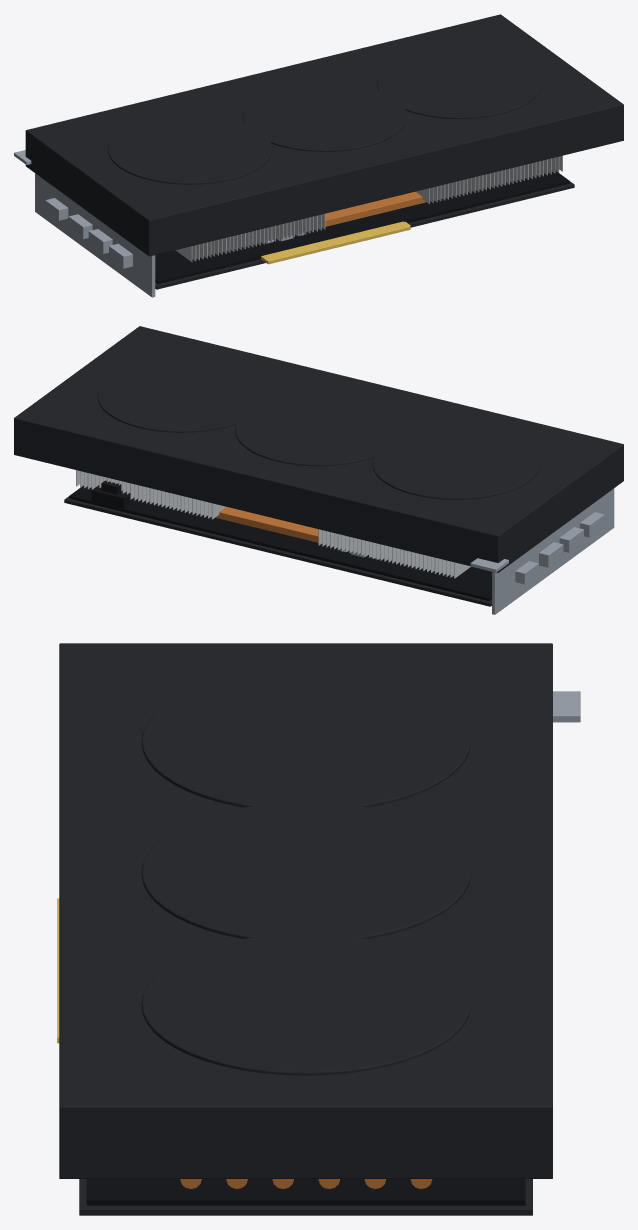
Rendered from gpu.lod1.glb.
The picture shows the model from 3 angles, top to bottom: view 1: azimuth 30°, elevation 25°; view 2: azimuth 150°, elevation 25°; view 3: azimuth 270°, elevation 25°; orthographic projection. The views are drawn at different scales.
Visible parts, largest first — view 1: P08_cooler_shroud, P04_pcb_board, P06_heatsink_fin_array, P10_io_bracket, P14_display_outputs, P09_backplate, P11_pcie_interface, P05_vapor_chamber_base; view 2: P08_cooler_shroud, P04_pcb_board, P06_heatsink_fin_array, P10_io_bracket, P09_backplate, P14_display_outputs, P05_vapor_chamber_base, P12_power_connector; view 3: P08_cooler_shroud, P04_pcb_board, P09_backplate, P05_vapor_chamber_base, P10_io_bracket.
Part boxes in pixels (left/top/right/bottom): P08_cooler_shroud: left=25, top=14, right=623, bottom=256; P04_pcb_board: left=155, top=170, right=569, bottom=283; P06_heatsink_fin_array: left=175, top=155, right=562, bottom=261; P10_io_bracket: left=14, top=150, right=155, bottom=297; P14_display_outputs: left=45, top=198, right=132, bottom=268; P09_backplate: left=155, top=181, right=574, bottom=289; P11_pcie_interface: left=261, top=221, right=410, bottom=264; P05_vapor_chamber_base: left=287, top=191, right=452, bottom=236; P08_cooler_shroud: left=14, top=326, right=623, bottom=572; P04_pcb_board: left=69, top=485, right=491, bottom=600; P06_heatsink_fin_array: left=76, top=470, right=470, bottom=578; P10_io_bracket: left=470, top=488, right=614, bottom=614; P09_backplate: left=64, top=496, right=491, bottom=606; P14_display_outputs: left=515, top=512, right=604, bottom=584; P05_vapor_chamber_base: left=184, top=507, right=345, bottom=549; P12_power_connector: left=91, top=480, right=131, bottom=508; P08_cooler_shroud: left=59, top=643, right=552, bottom=1178; P04_pcb_board: left=86, top=1179, right=525, bottom=1205; P09_backplate: left=79, top=1179, right=532, bottom=1215; P05_vapor_chamber_base: left=180, top=1179, right=432, bottom=1189; P10_io_bracket: left=553, top=691, right=580, bottom=722.
Bounding box in the file's own units: 303 × 50.01 × 143.
